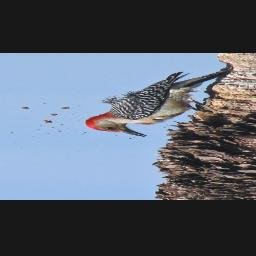Woodpecker: (82, 68, 236, 137)
